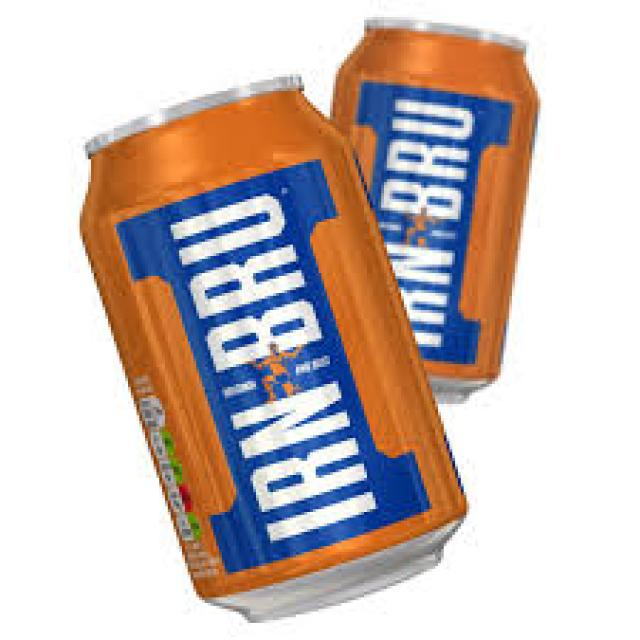Cans: (66, 63, 470, 620), (330, 11, 529, 398)
